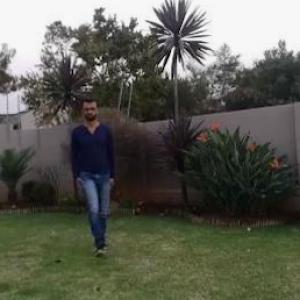follow: (73, 94, 119, 247)
